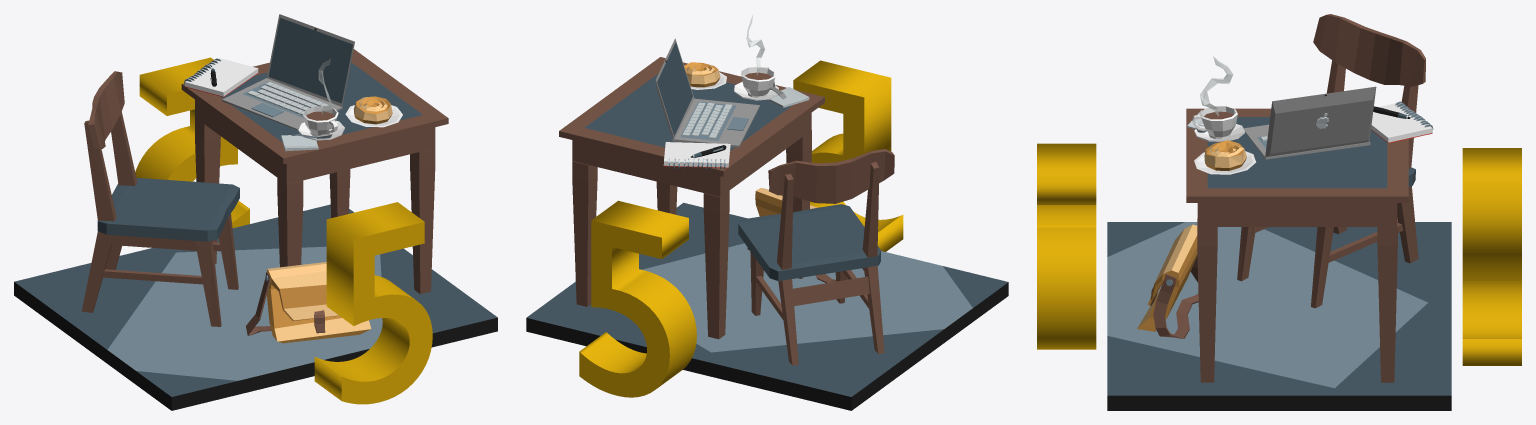
The model's file is number5.glb.
3 views of the same model, side by side, from view 1: azimuth 30°, elevation 25°; view 2: azimuth 150°, elevation 25°; view 3: azimuth 270°, elevation 25° (orthographic). The views are drawn at different scales.
Parts seen in each view (by area): view 1: group2110028310, Text.006, Text.001; view 2: group2110028310, Text.001, Text.006; view 3: group2110028310, Text.001, Text.006.
Part boxes in pixels (left/top/right/bottom): group2110028310: left=14, top=14, right=497, bottom=410; Text.006: left=314, top=202, right=432, bottom=404; Text.001: left=135, top=57, right=249, bottom=227; group2110028310: left=526, top=15, right=1008, bottom=410; Text.001: left=579, top=200, right=696, bottom=397; Text.006: left=793, top=60, right=903, bottom=251; group2110028310: left=1107, top=14, right=1451, bottom=410; Text.001: left=1462, top=148, right=1521, bottom=365; Text.006: left=1037, top=143, right=1096, bottom=349.
Size of the model in its own units: 2.61 by 2.13 by 3.08.
